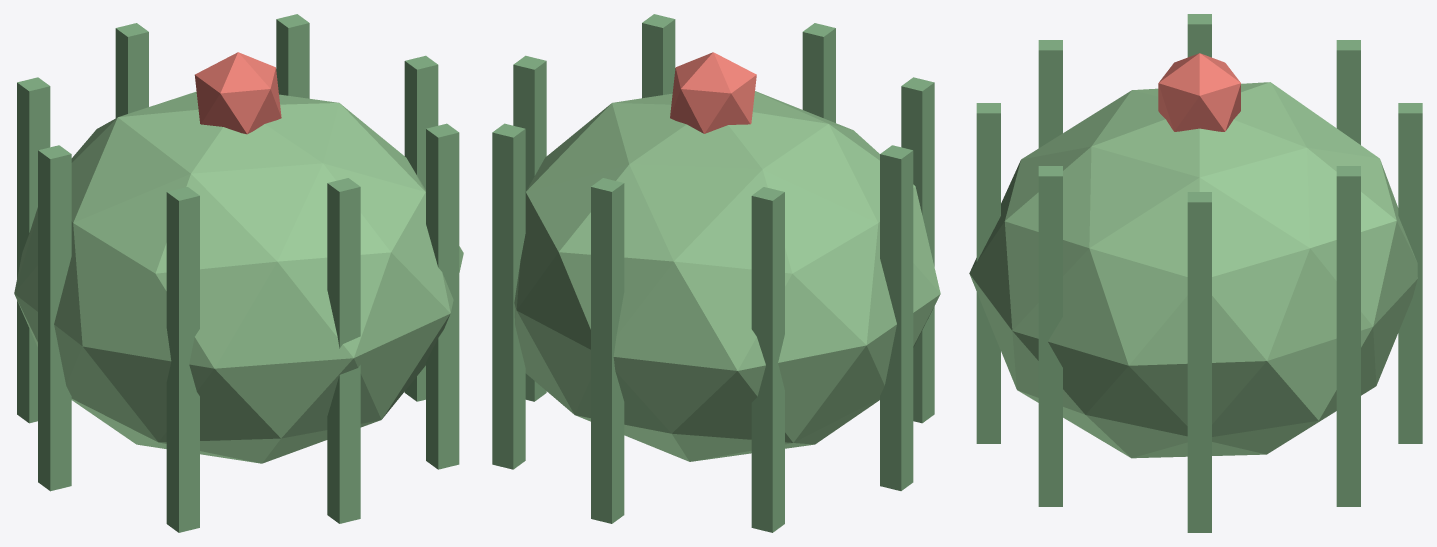
The model's file is barrel_cactus.glb.
3 renders of one model, left to right at view 1: azimuth 30°, elevation 25°; view 2: azimuth 150°, elevation 25°; view 3: azimuth 270°, elevation 25°, orthographic.
Parts seen in each view (by area): view 1: barrel_cactus; view 2: barrel_cactus; view 3: barrel_cactus.
Part boxes in pixels (x1,y1,x2,y2): barrel_cactus: (14, 14, 463, 532); barrel_cactus: (492, 14, 940, 532); barrel_cactus: (969, 14, 1422, 532).
Size of the model in its own units: 1.1 by 1.06 by 1.12.
